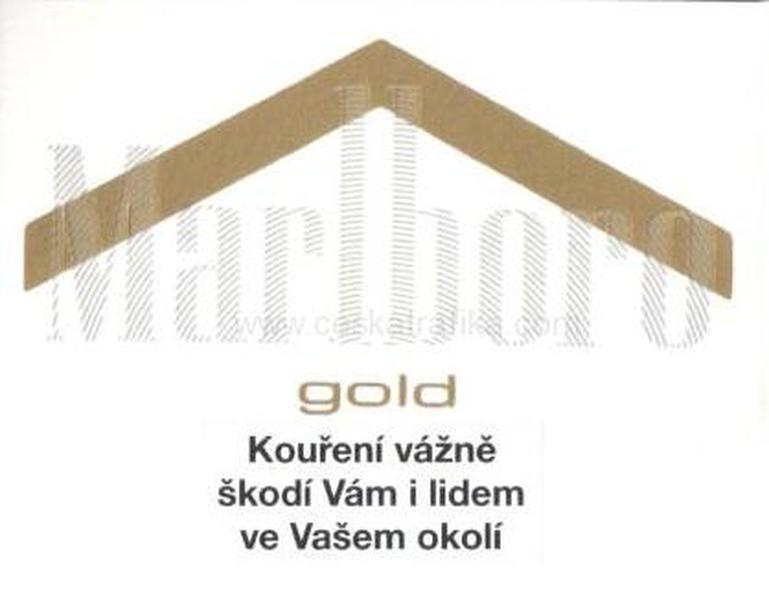marlboro_gold: (4, 4, 767, 600)
